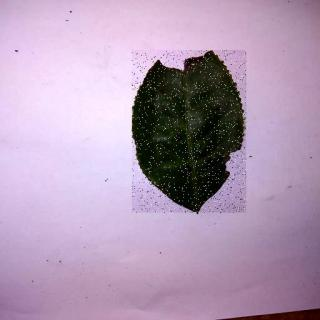Bird Eye Spot: (133, 52, 247, 215)
